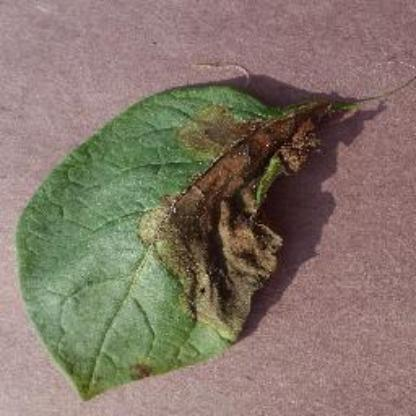Late-Blight: (8, 72, 344, 402)
